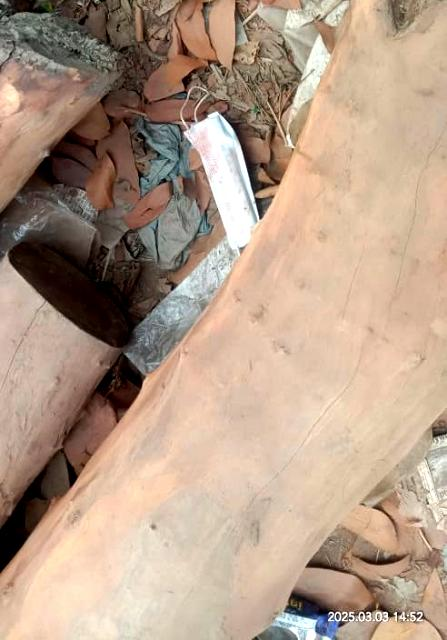mask: (175, 86, 285, 277)
